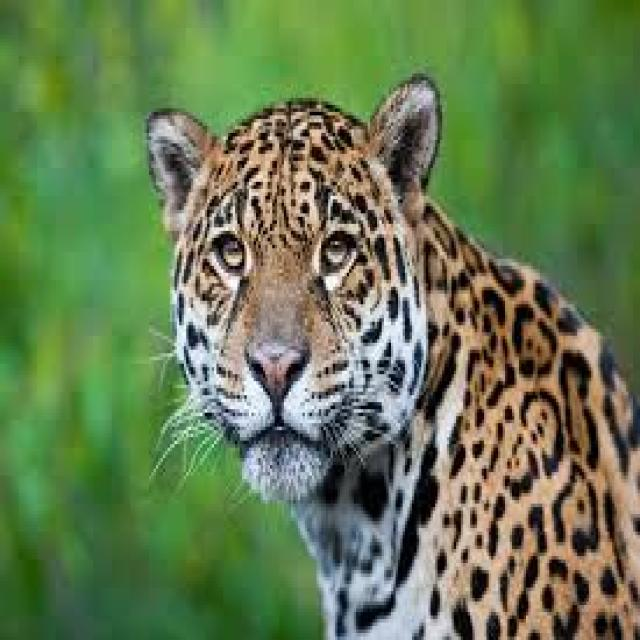Jaguar: (144, 70, 640, 640)
